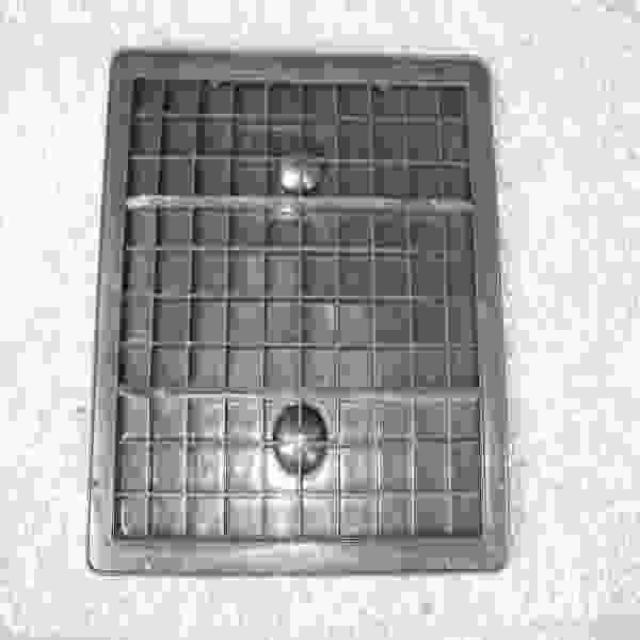manhole: (90, 47, 509, 573)
